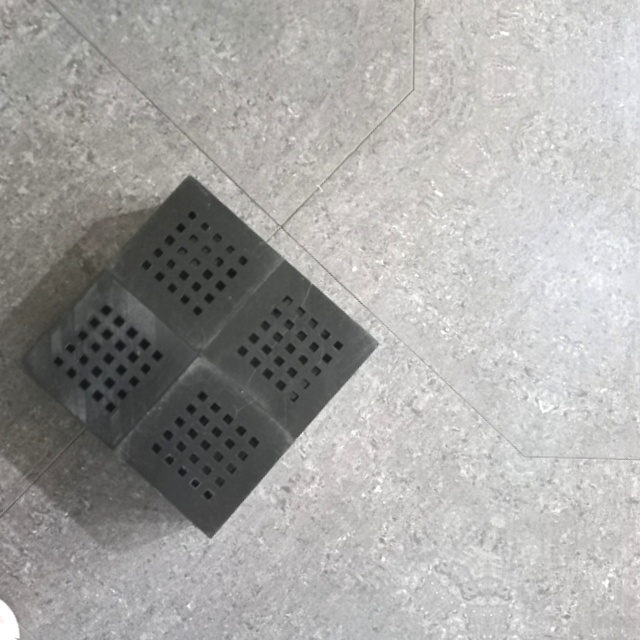pallet: (3, 159, 397, 553)
